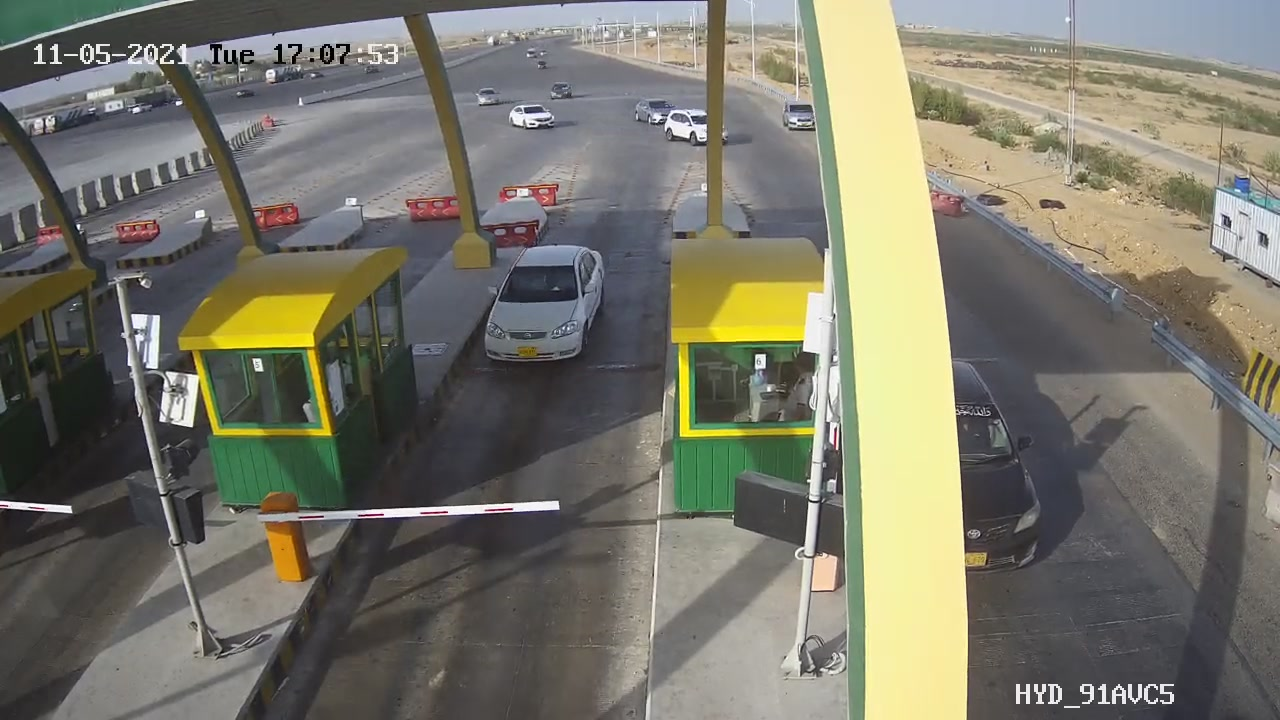F1: (466, 231, 631, 385)
